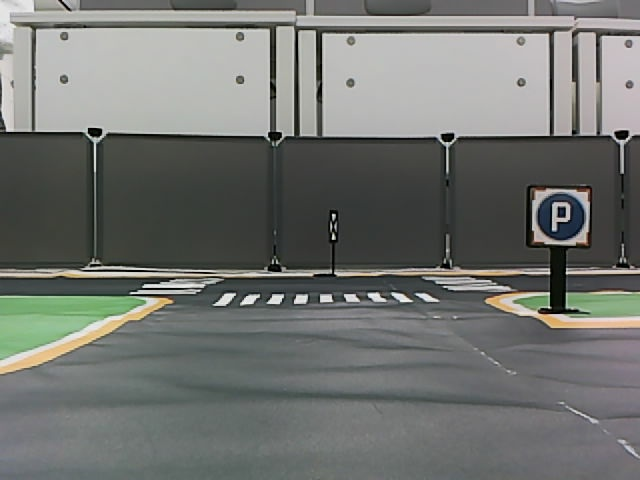crosswalk: (211, 290, 442, 306)
park: (537, 193, 586, 242)
